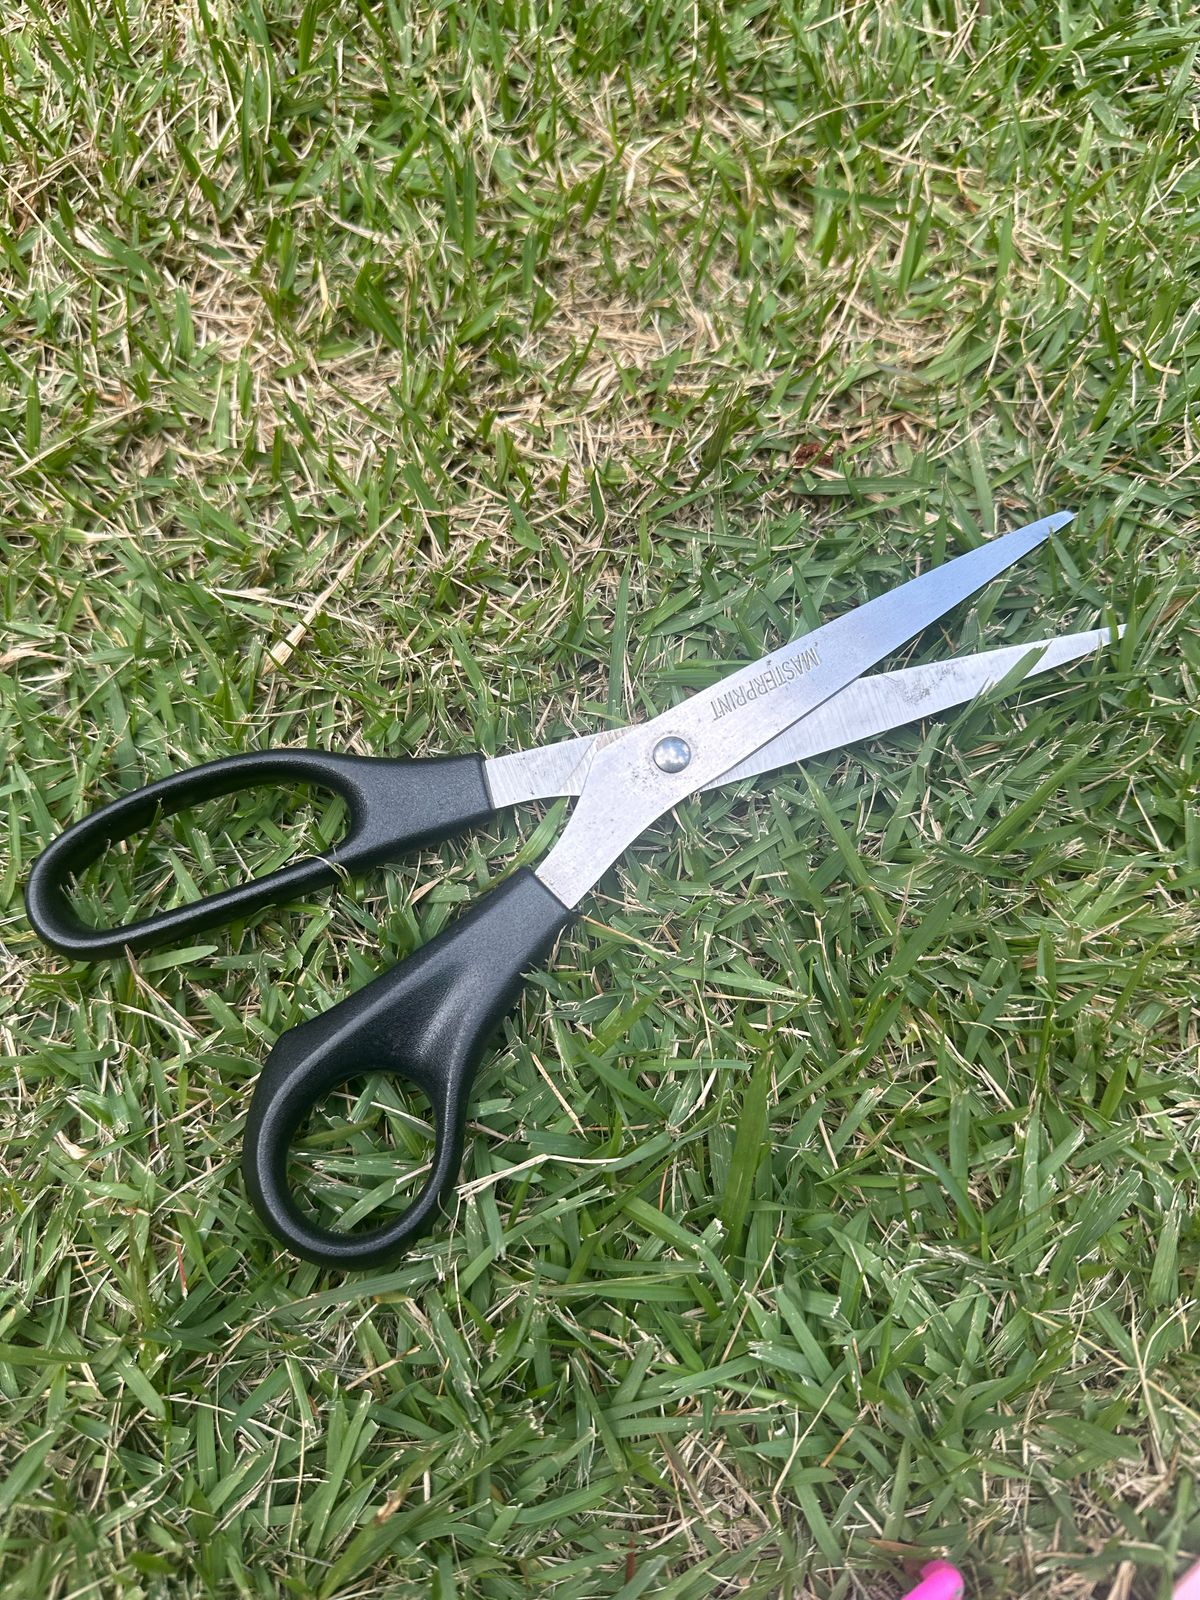tesoura: (14, 472, 1123, 1267)
